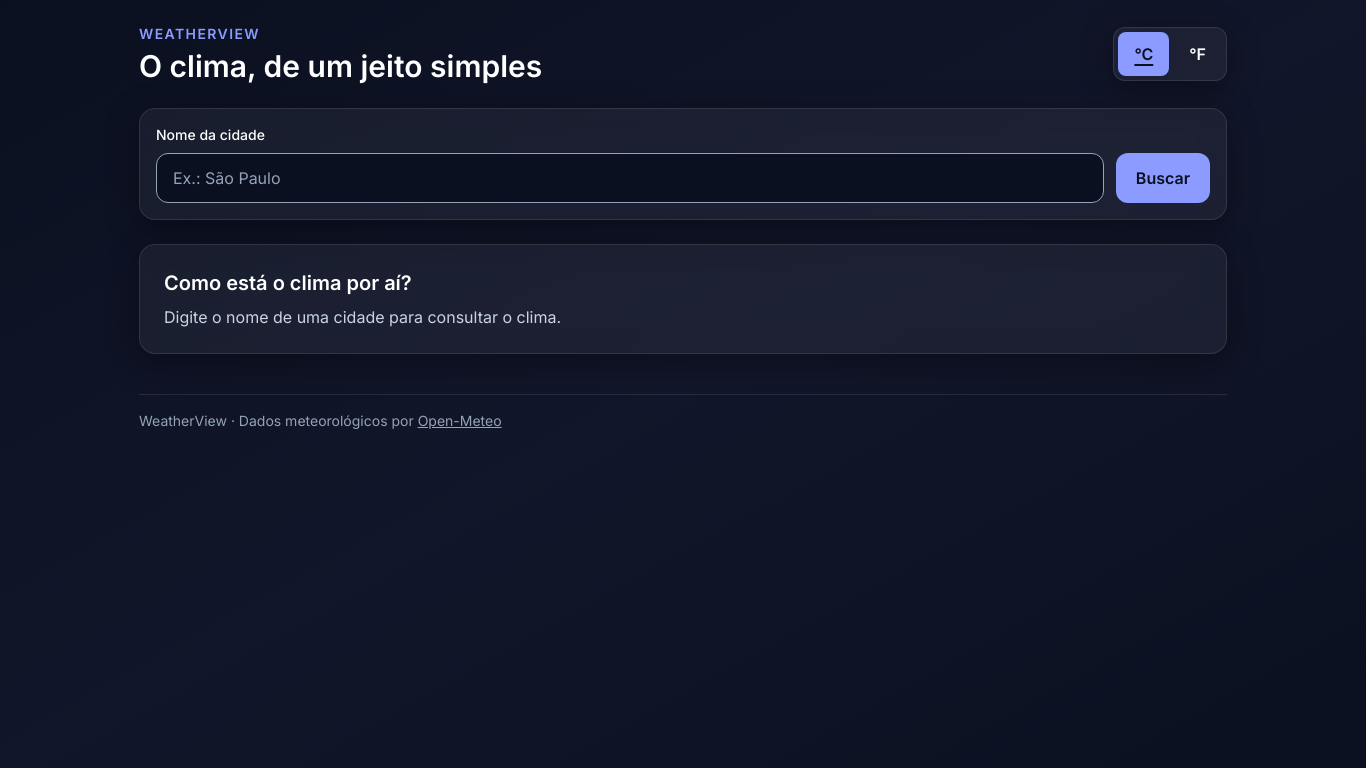
Test case: App integrado › repete a operação que falhou ao acionar ErrorState e preserva unidade
Click the button "°F": [1198, 54] box [1173,32,1222,76]
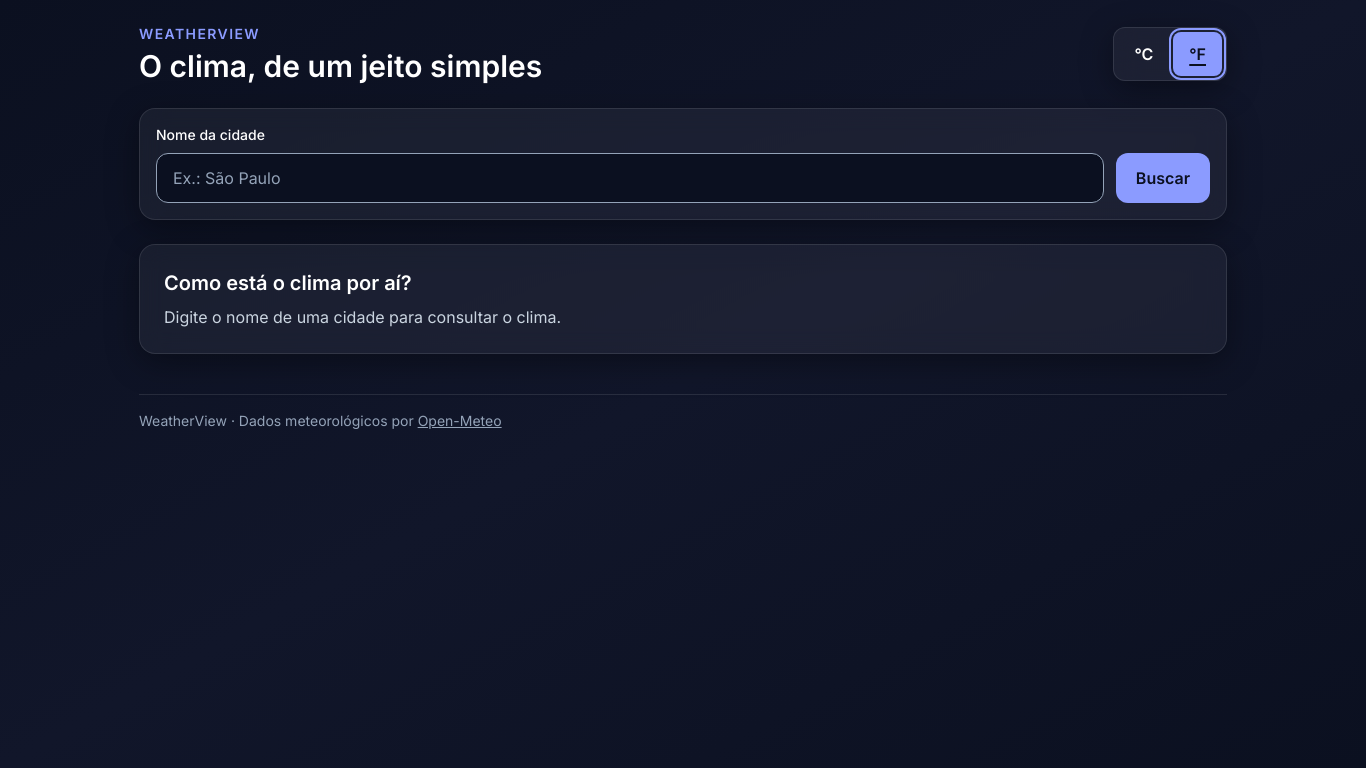
In the search field: [630, 178] box [156,153,1104,203], type "São Paulo"
Then press Enter
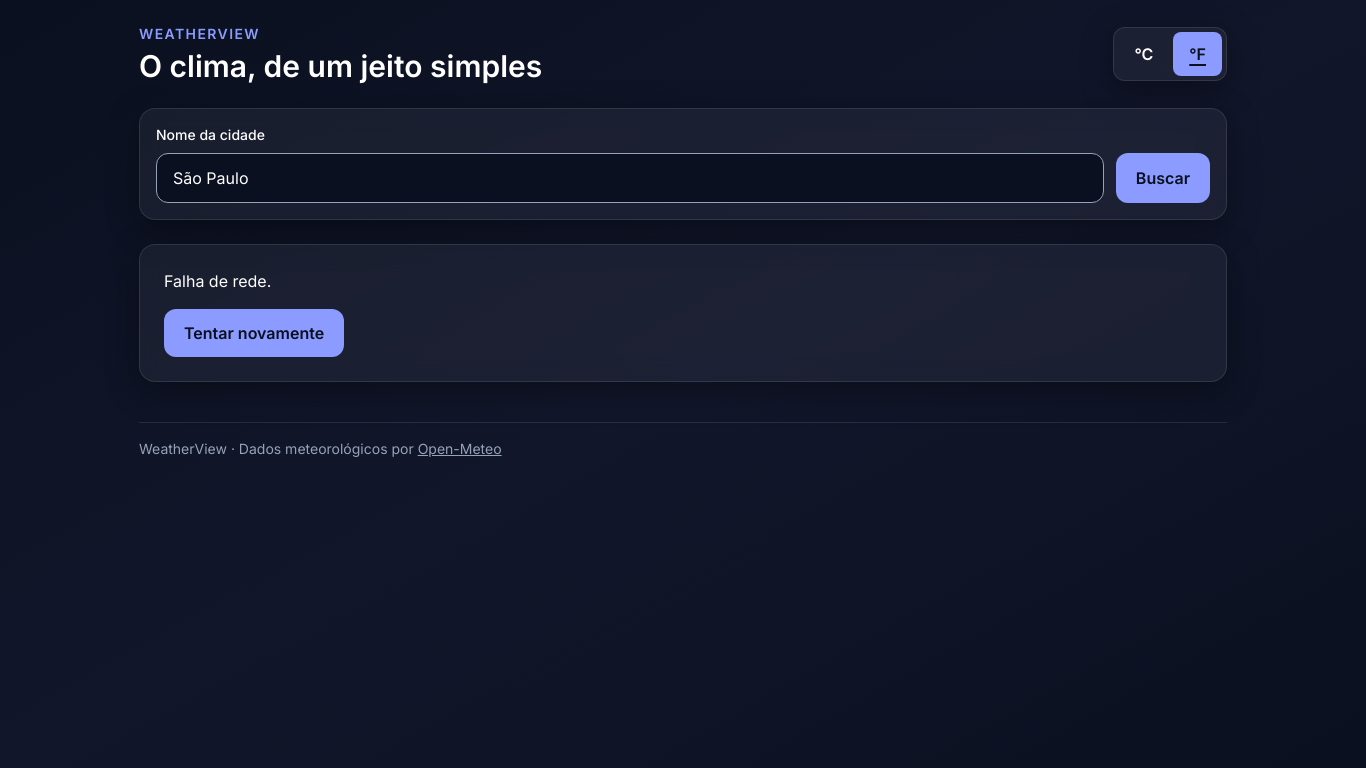
Result: the message reads "Falha de rede." at [164,271,271,291]
Click the button "Tentar novamente": [254, 333] box [164,309,344,357]
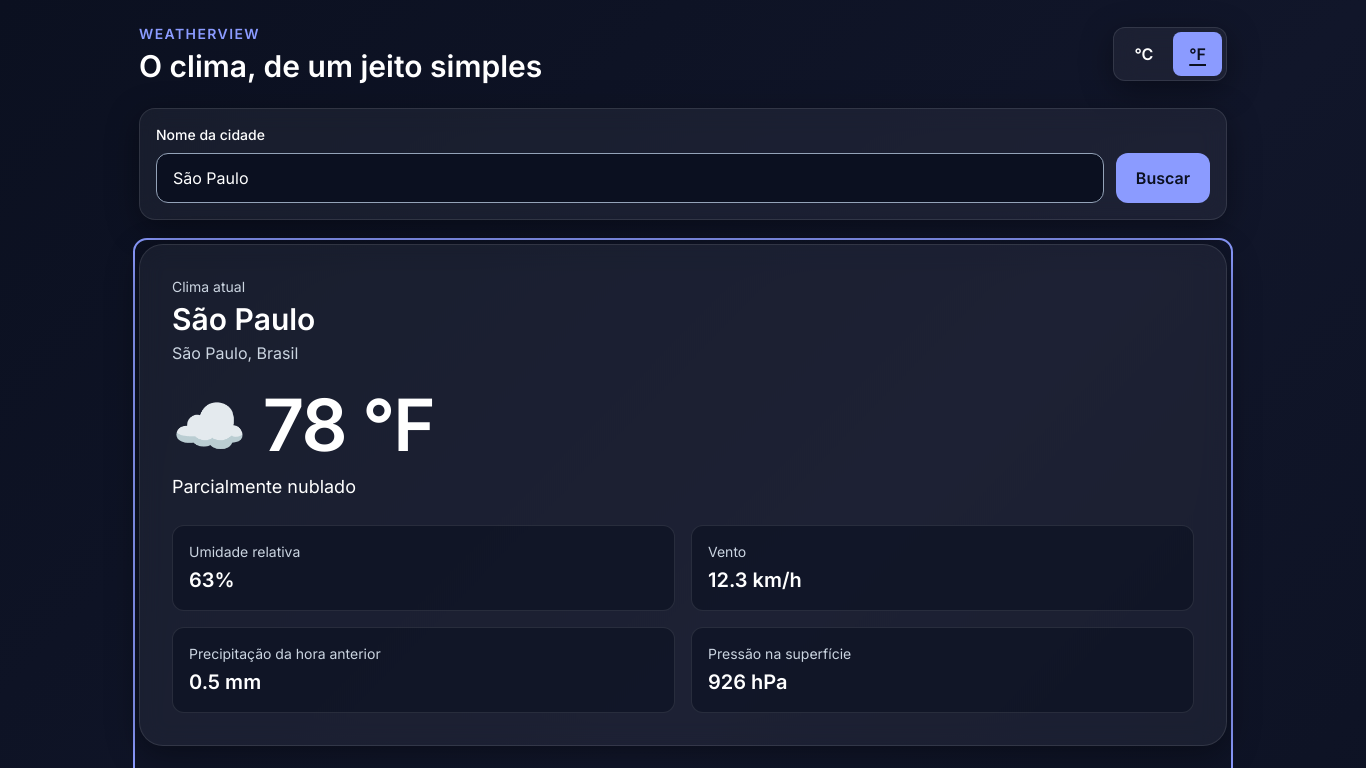
Result: the element "São Paulo" is shown at [139,244,1227,746]
Result: the message "Falha de rede." is gone
